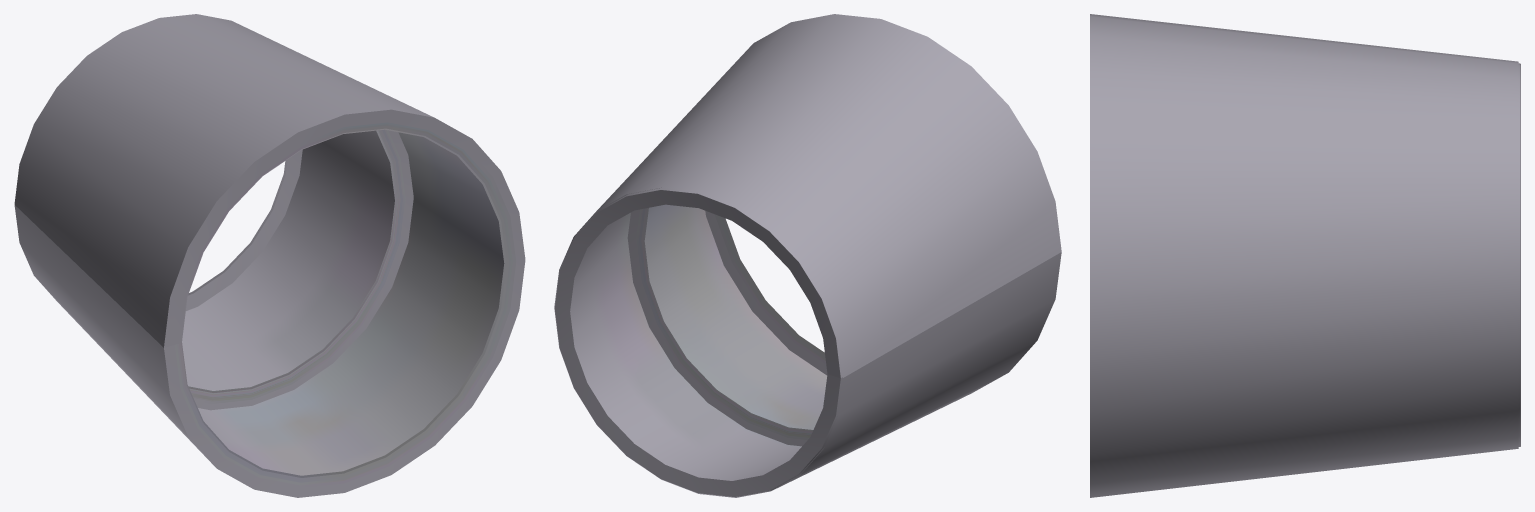
The model's file is int10_8.obj.
The picture shows the model from 3 angles, left to right: view 1: azimuth 30°, elevation 25°; view 2: azimuth 150°, elevation 25°; view 3: azimuth 270°, elevation 25°; orthographic projection. The views are drawn at different scales.
Parts seen in each view (by area): view 1: group1, group0, group2, group4, group3; view 2: group0, group1, group3, group4, group2; view 3: group0, group1.
Part boxes in pixels (<box>): group1: <box>182,130,504,475</box>; group0: <box>14,14,434,465</box>; group2: <box>164,109,525,497</box>; group4: <box>188,129,413,410</box>; group3: <box>186,149,302,310</box>; group0: <box>554,14,1061,497</box>; group1: <box>570,188,842,488</box>; group3: <box>554,187,840,496</box>; group4: <box>627,208,813,446</box>; group2: <box>705,211,827,375</box>; group0: <box>1090,14,1518,497</box>; group1: <box>1518,63,1520,446</box>.
Bounding box in the file's own units: 3.11 × 3.11 × 2.76.
Materials: 1 (1 with a texture image).
